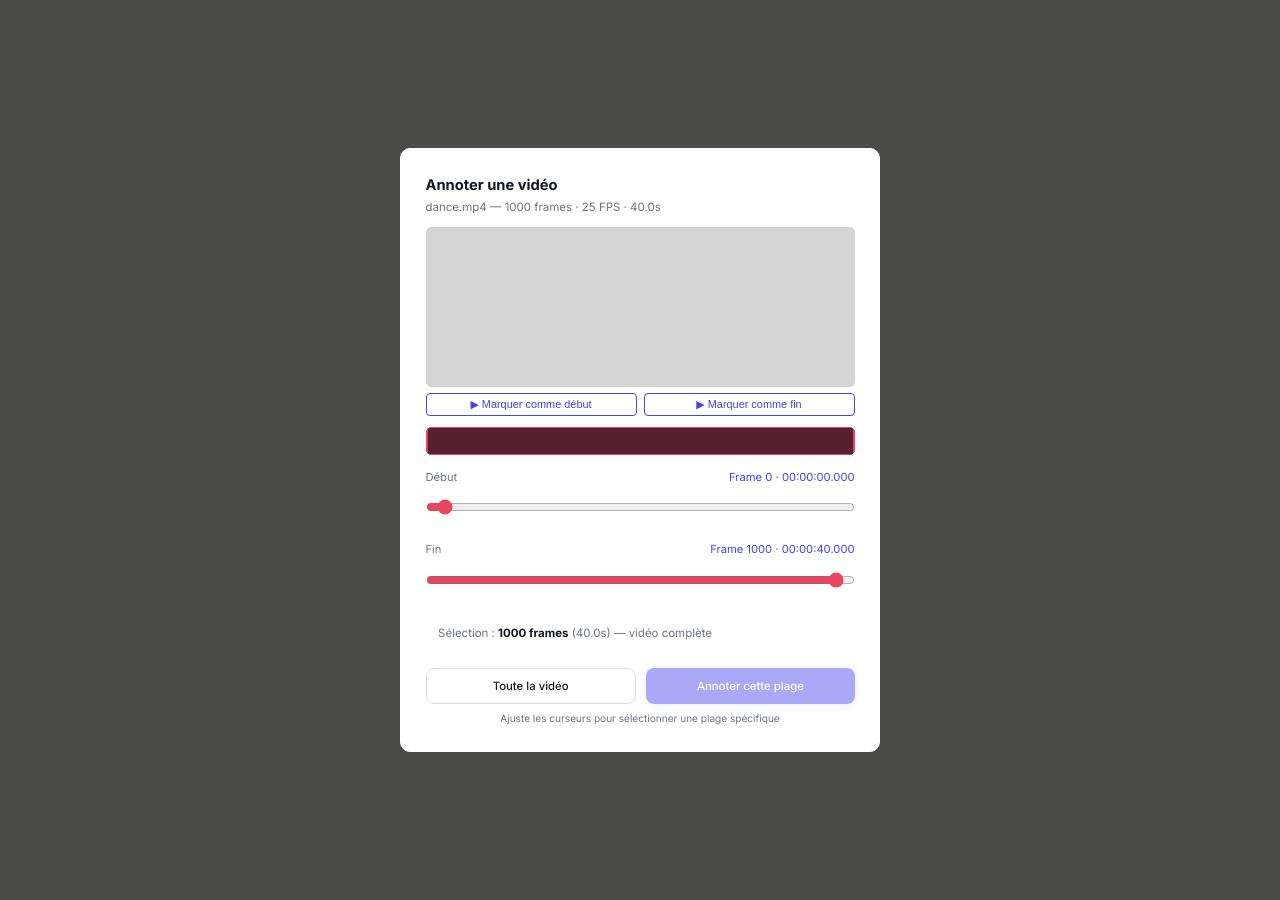
VideoTrimModal › changer le slider début met à jour l'affichage dans le libellé Début
The image size is (1280, 900).
Set the slider below "00:00:00.000" to "100": (475, 507) [426,489,854,525]
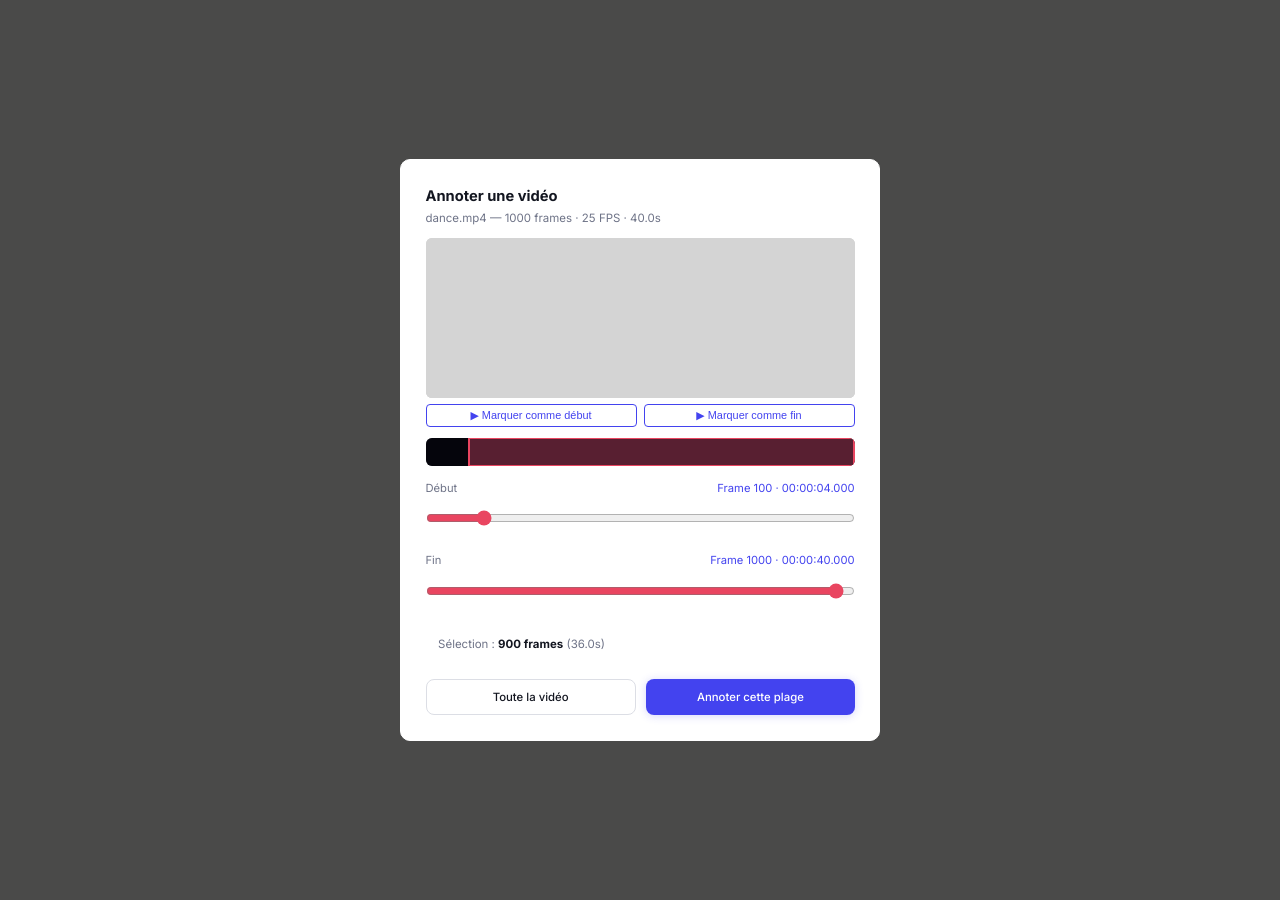
Check: the text "Frame 100 · 00:00:04.000" is shown, box [717,480,854,496]
